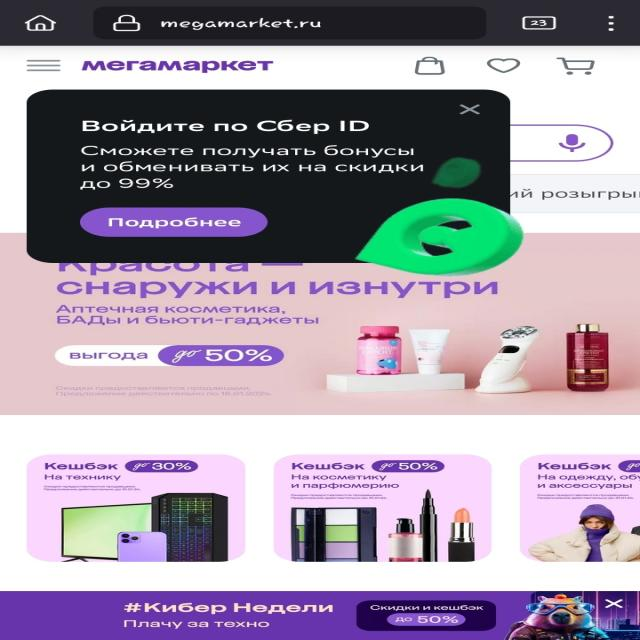button: (82, 206, 268, 236), (452, 100, 491, 118), (599, 597, 633, 610)
site: (28, 91, 512, 261), (2, 591, 640, 640)
